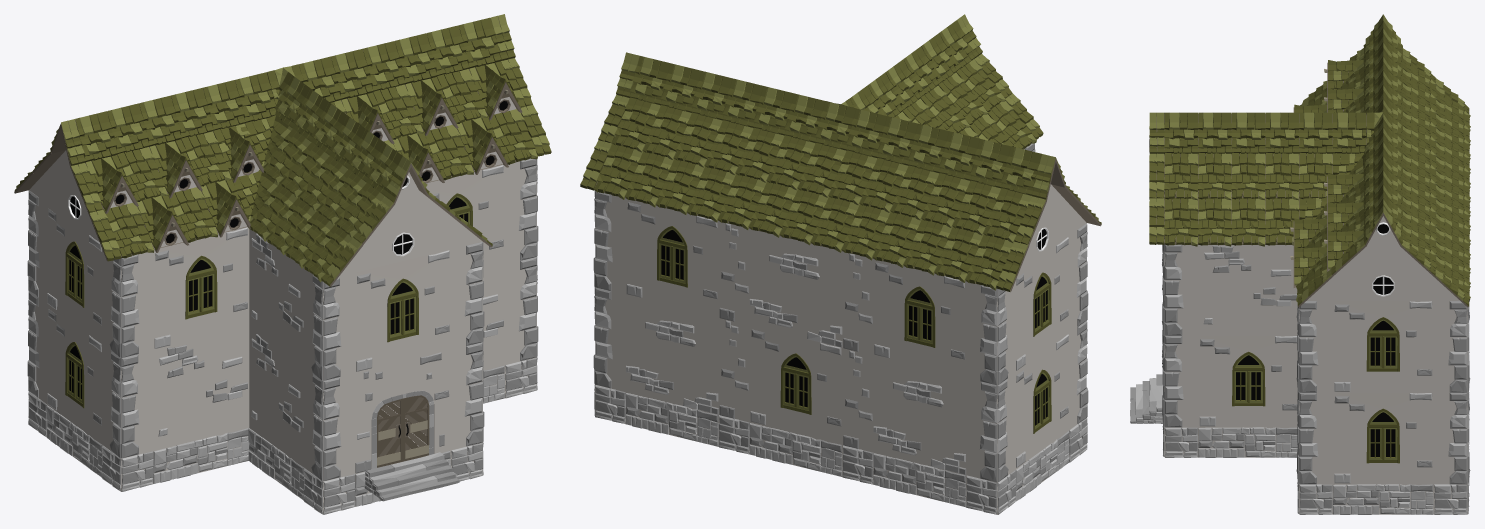
Rendered from HOUSE_18.fbx.
3 renders of one model, left to right at view 1: azimuth 30°, elevation 25°; view 2: azimuth 150°, elevation 25°; view 3: azimuth 270°, elevation 25°, orthographic. The views are drawn at different scales.
Parts seen in each view (by area): view 1: WALL_01_5, WINDOW_02_RIG_20, WINDOW_02_RIG_1, DOOR_02_RIG_1, WINDOW_02_RIG_22, WALL_01_2, WINDOW_02_RIG_21, WALL_01_3, WINDOW_02_RIG_24, WALL_05_11, WALL_05_10, FOUNDATION_03_4 (+78 smaller); view 2: WALL_03_3, WALL_03_2, WINDOW_02_RIG_19, WINDOW_02_RIG_16, WALL_03_4, WINDOW_02_RIG_15, WINDOW_02_RIG_22, WINDOW_02_RIG_21, WALL_07_14, WALL_06_3, FOUNDATION_03_6, FOUNDATION_03_7 (+70 smaller); view 3: WINDOW_02_RIG_17, WINDOW_02_RIG_18, WINDOW_02_RIG_23, WALL_01_7, WALL_05_15, WALL_05_14, WALL_05_17, WALL_07_18, FOUNDATION_03_9, WALL_05_16, WALL_07_17, FOUNDATION_03_11 (+59 smaller).
Boxes of the visible parts, bbox=[...] form: WALL_01_5: bbox=[153, 327, 249, 450]; WINDOW_02_RIG_20: bbox=[153, 227, 249, 350]; WINDOW_02_RIG_1: bbox=[355, 249, 450, 372]; DOOR_02_RIG_1: bbox=[355, 350, 450, 473]; WINDOW_02_RIG_22: bbox=[47, 304, 102, 444]; WALL_01_2: bbox=[249, 327, 304, 467]; WINDOW_02_RIG_21: bbox=[47, 204, 102, 344]; WALL_01_3: bbox=[249, 229, 304, 366]; WINDOW_02_RIG_24: bbox=[426, 164, 504, 269]; WALL_05_11: bbox=[121, 350, 153, 458]; WALL_05_10: bbox=[121, 252, 153, 357]; FOUNDATION_03_4: bbox=[153, 427, 249, 483]; WALL_03_3: bbox=[873, 355, 966, 474]; WALL_03_2: bbox=[626, 295, 718, 414]; WINDOW_02_RIG_19: bbox=[750, 325, 842, 444]; WINDOW_02_RIG_16: bbox=[873, 259, 966, 377]; WALL_03_4: bbox=[749, 229, 842, 347]; WINDOW_02_RIG_15: bbox=[626, 198, 718, 317]; WINDOW_02_RIG_22: bbox=[1015, 333, 1068, 469]; WINDOW_02_RIG_21: bbox=[1015, 236, 1068, 371]; WALL_07_14: bbox=[966, 378, 997, 482]; WALL_06_3: bbox=[842, 348, 873, 452]; FOUNDATION_03_6: bbox=[873, 452, 966, 507]; FOUNDATION_03_7: bbox=[749, 422, 842, 476]; WINDOW_02_RIG_17: bbox=[1333, 392, 1433, 483]; WINDOW_02_RIG_18: bbox=[1333, 301, 1433, 392]; WINDOW_02_RIG_23: bbox=[1198, 335, 1297, 427]; WALL_01_7: bbox=[1198, 245, 1297, 335]; WALL_05_15: bbox=[1164, 335, 1198, 427]; WALL_05_14: bbox=[1164, 244, 1198, 335]; WALL_05_17: bbox=[1299, 392, 1332, 484]; WALL_07_18: bbox=[1434, 392, 1467, 484]; FOUNDATION_03_9: bbox=[1333, 484, 1433, 514]; WALL_05_16: bbox=[1299, 301, 1332, 392]; WALL_07_17: bbox=[1434, 301, 1467, 392]; FOUNDATION_03_11: bbox=[1198, 427, 1297, 457].
Bounding box in the file's own units: 1391 × 1016 × 1013.
